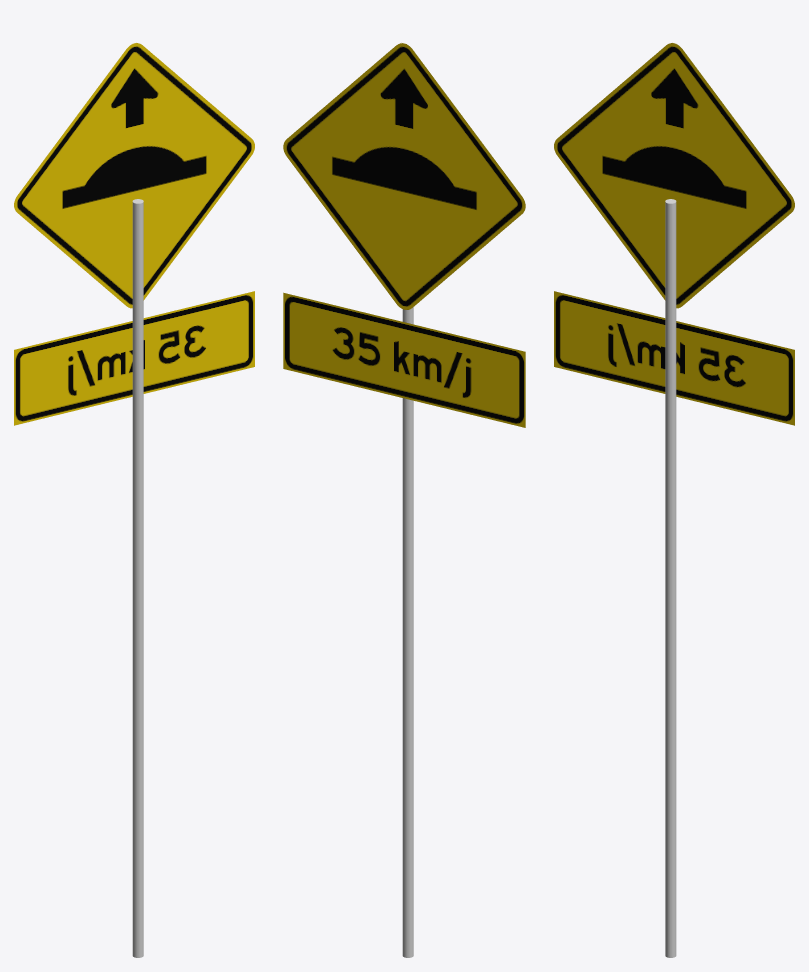
The model's file is bonggol.fbx.
3 renders of one model, left to right at view 1: azimuth 30°, elevation 25°; view 2: azimuth 150°, elevation 25°; view 3: azimuth 330°, elevation 25°, orthographic.
Visible parts, largest first — view 1: Plane, Cylinder; view 2: Plane, Cylinder; view 3: Plane, Cylinder.
Part boxes in pixels (box(x1,y1,x2,y2)): Plane: box(14, 43, 254, 425); Cylinder: box(132, 199, 143, 957); Plane: box(283, 43, 525, 427); Cylinder: box(402, 307, 413, 957); Plane: box(554, 43, 794, 425); Cylinder: box(665, 199, 676, 957).
Bounding box in the file's own units: 200 × 722 × 9.27.
